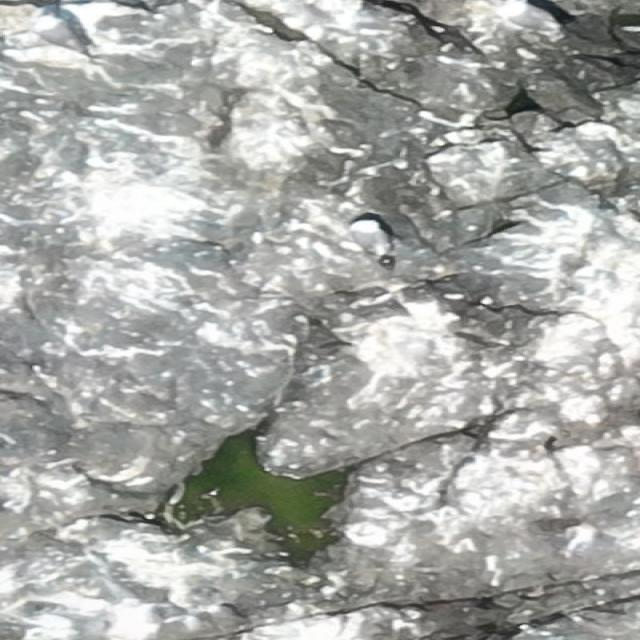umineko: (34, 13, 91, 59), (347, 216, 399, 264)
